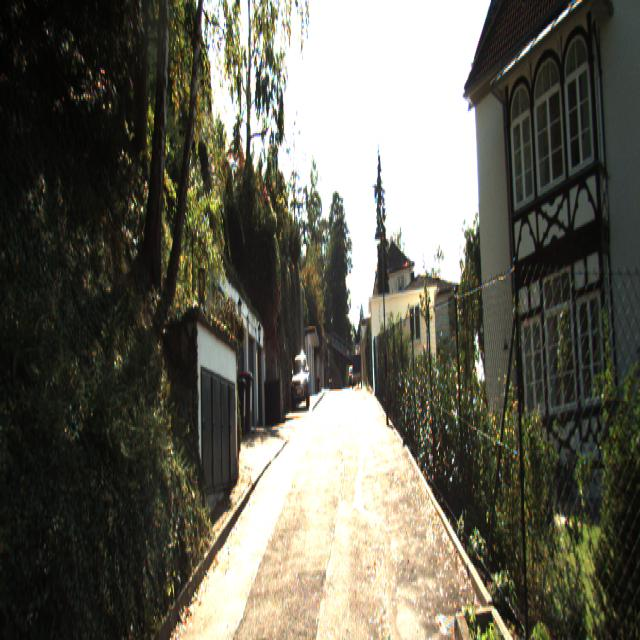Car: (292, 358, 309, 416)
